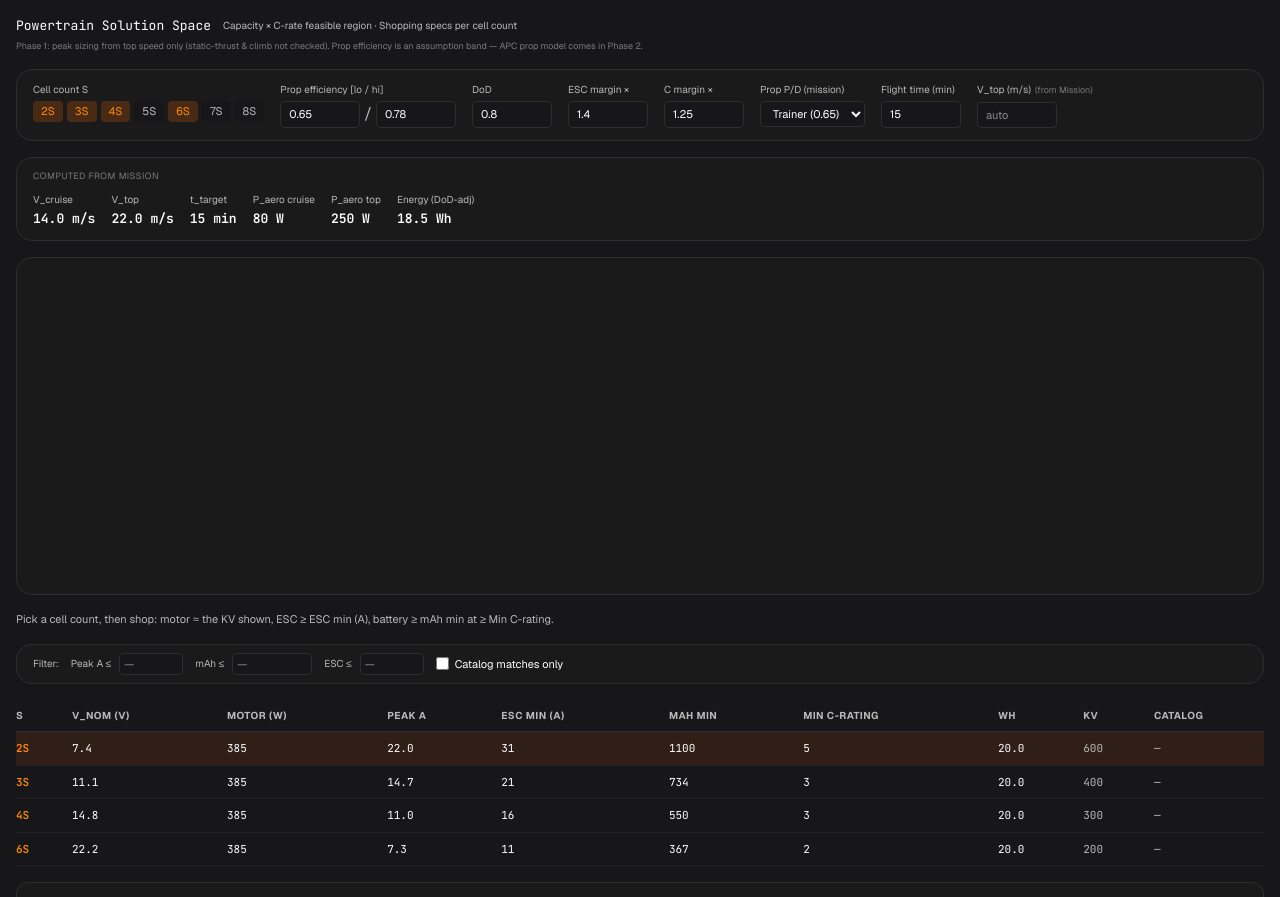
Scenario: PowertrainTab › catalog-only toggle hides rows with no matches
Click the checkbox with test id "filter-catalog-only" at (442, 664), box [436,657,449,670]
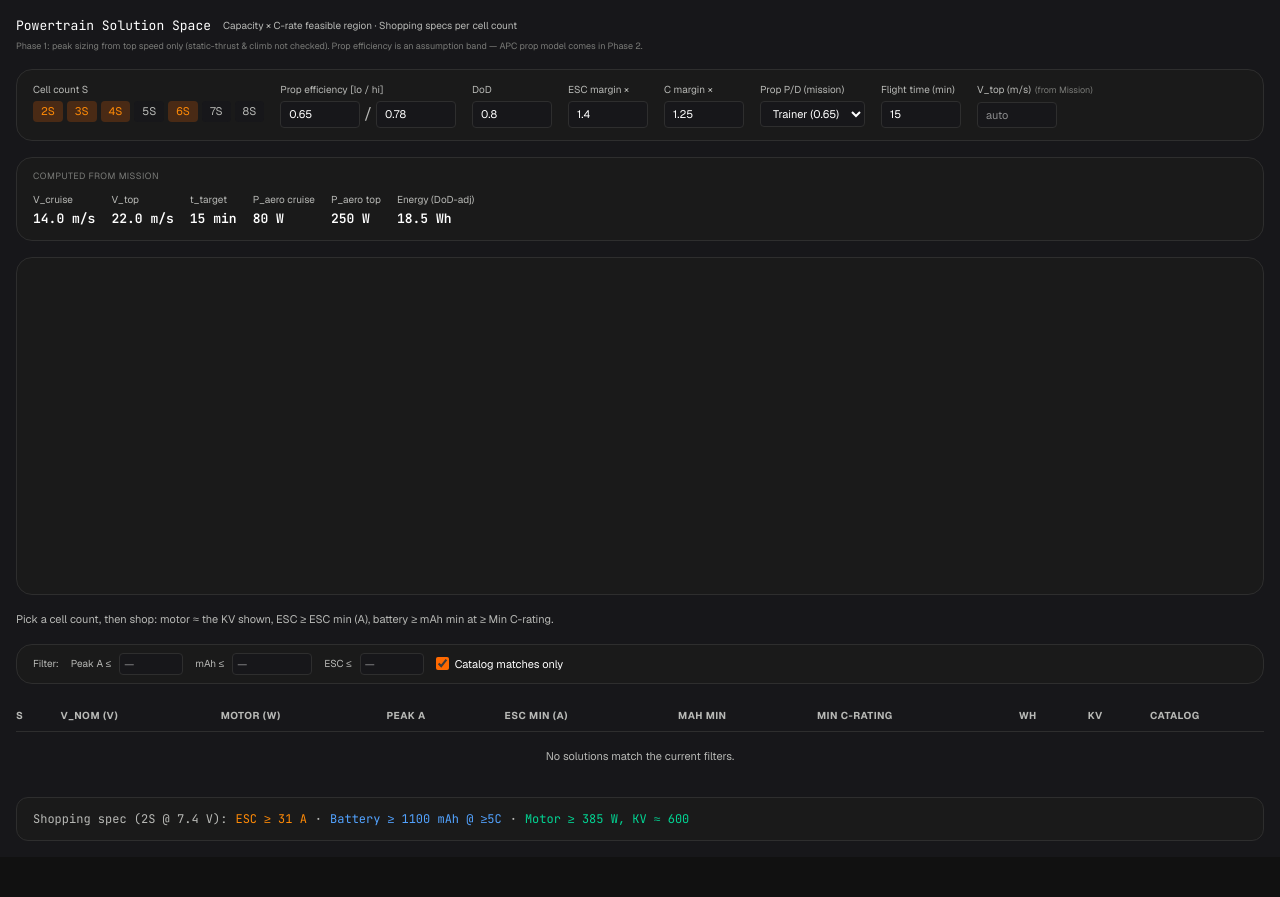
Expected: the cell with test id "solution-table-empty" is shown, [16,732,1264,780]
Expected: the row with test id "solution-row-2" is gone
